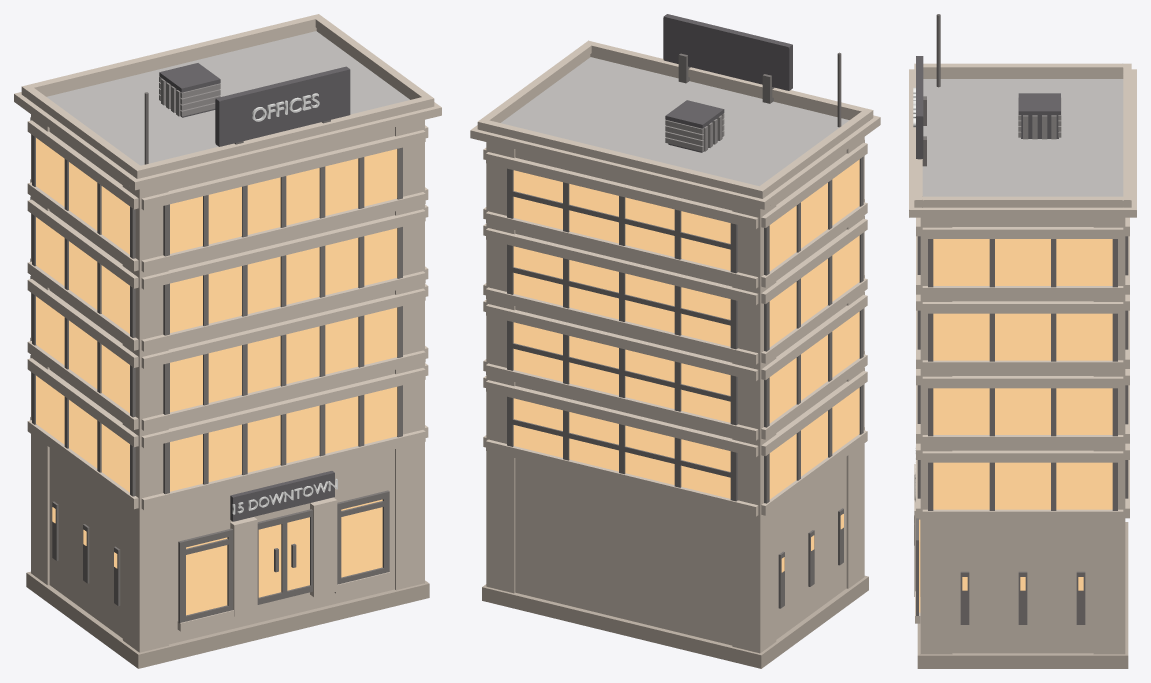
The model's file is 32-offices-downtown.glb.
3 renders of one model, left to right at view 1: azimuth 30°, elevation 25°; view 2: azimuth 150°, elevation 25°; view 3: azimuth 270°, elevation 25°, orthographic. The views are drawn at different scales.
Parts seen in each view (by area): view 1: Core, RoofDeck, Column, B0F_Glow, B1F_Glow, B3F_Glow, B2F_Glow, Column.002, Base, OfficesPlaque, B3SL_Glow, B0SL_Glow (+36 smaller); view 2: Core, RoofDeck, Column.001, Column.003, B1R_Glow, B2R_Glow, B0R_Glow, B3R_Glow, Base, OfficesPlaque, B3SL_Glow, B0SL_Glow (+27 smaller); view 3: RoofDeck, Core, B0SR_Glow, B2SR_Glow, B1SR_Glow, B3SR_Glow, Column.002, Column.003, Base, B1SR_Head, B0SR_Head, B2SR_Head (+20 smaller).
Boxes of the visible parts, x1=… form: Core: x1=49, y1=127, x2=394, y2=644; RoofDeck: x1=47, y1=31, x2=409, y2=165; Column: x1=122, y1=181, x2=168, y2=652; B0F_Glow: x1=170, y1=387, x2=397, y2=491; B1F_Glow: x1=170, y1=307, x2=397, y2=412; B3F_Glow: x1=170, y1=149, x2=397, y2=253; B2F_Glow: x1=170, y1=228, x2=397, y2=332; Column.002: x1=395, y1=120, x2=424, y2=589; Base: x1=26, y1=571, x2=429, y2=668; OfficesPlaque: x1=215, y1=66, x2=350, y2=146; B3SL_Glow: x1=36, y1=138, x2=129, y2=254; B0SL_Glow: x1=36, y1=375, x2=129, y2=492; Core: x1=515, y1=149, x2=846, y2=645; RoofDeck: x1=501, y1=57, x2=849, y2=186; Column.001: x1=732, y1=202, x2=776, y2=653; Column.003: x1=486, y1=142, x2=515, y2=593; B1R_Glow: x1=513, y1=322, x2=730, y2=422; B2R_Glow: x1=513, y1=246, x2=730, y2=346; B0R_Glow: x1=513, y1=398, x2=730, y2=498; B3R_Glow: x1=513, y1=170, x2=730, y2=270; Base: x1=482, y1=575, x2=868, y2=668; OfficesPlaque: x1=663, y1=14, x2=792, y2=90; B3SL_Glow: x1=769, y1=159, x2=859, y2=271; B0SL_Glow: x1=769, y1=387, x2=859, y2=499; RoofDeck: x1=922, y1=79, x2=1123, y2=196; Core: x1=952, y1=217, x2=1093, y2=653; B0SR_Glow: x1=933, y1=462, x2=1112, y2=509; B2SR_Glow: x1=933, y1=313, x2=1112, y2=360; B1SR_Glow: x1=933, y1=388, x2=1112, y2=434; B3SR_Glow: x1=933, y1=239, x2=1112, y2=285; Column.002: x1=920, y1=217, x2=952, y2=654; Column.003: x1=1093, y1=217, x2=1125, y2=654; Base: x1=917, y1=522, x2=1128, y2=668; B1SR_Head: x1=922, y1=376, x2=1123, y2=388; B0SR_Head: x1=922, y1=450, x2=1123, y2=462; B2SR_Head: x1=922, y1=301, x2=1123, y2=313.
Size of the model in its own units: 3.16 by 5.54 by 2.16.
